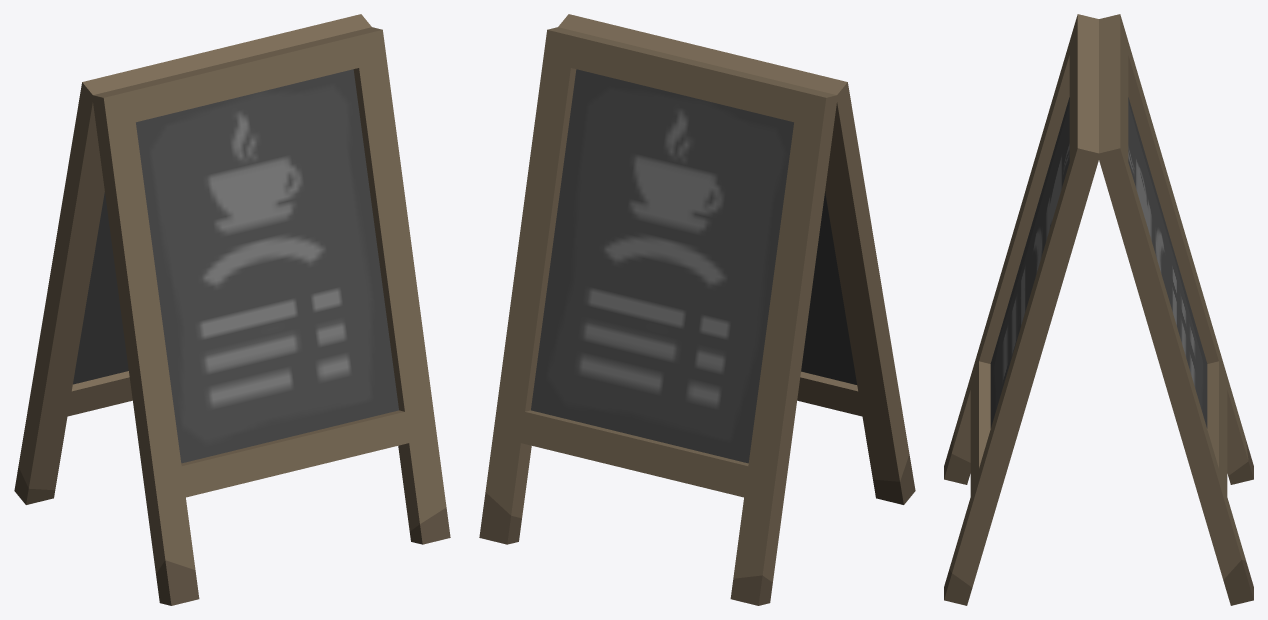
The model's file is SM_Props_Street_ShopBoard.fbx.
3 renders of one model, left to right at view 1: azimuth 30°, elevation 25°; view 2: azimuth 150°, elevation 25°; view 3: azimuth 270°, elevation 25°, orthographic.
Parts seen in each view (by area): view 1: SM_Props_Street_ShopBoard; view 2: SM_Props_Street_ShopBoard; view 3: SM_Props_Street_ShopBoard.
Boxes of the visible parts, x1,y1,x2,y2 form: SM_Props_Street_ShopBoard: [14, 14, 450, 605]; SM_Props_Street_ShopBoard: [479, 14, 915, 605]; SM_Props_Street_ShopBoard: [944, 14, 1253, 605].
Size of the model in its own units: 44 by 69.92 by 42.9.
